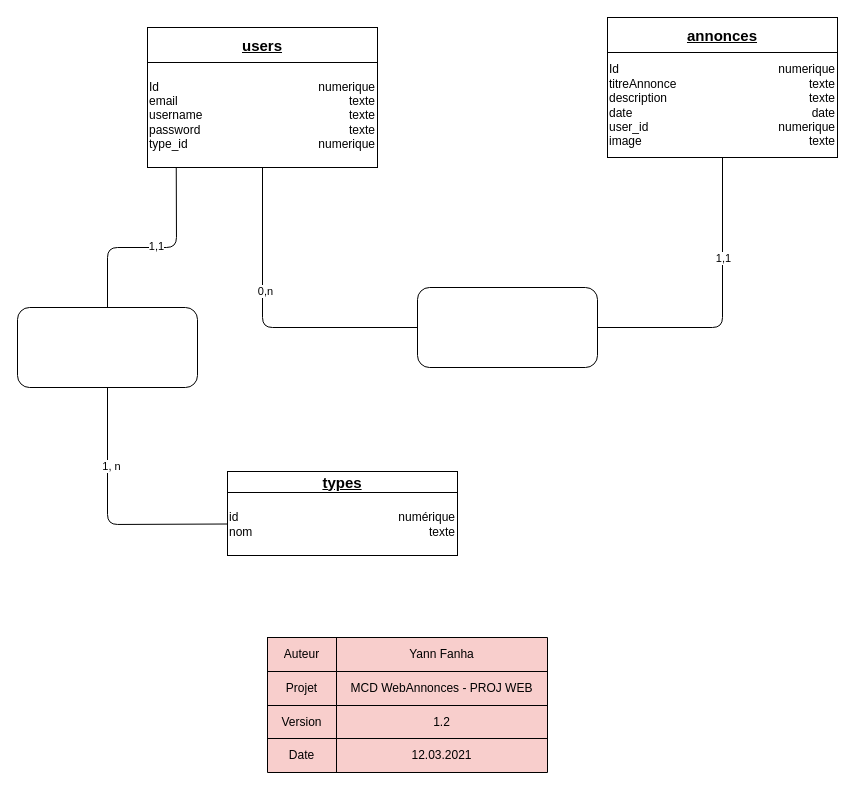
Image size: 855x790. Some labels were removed from this diagram. The shapes that lost their labels are listed below. From the top down, each one's box as (x1, y1, x2, y2) in pixels, then its label:
(16, 306, 198, 388): possèder
(416, 286, 598, 368): poster
